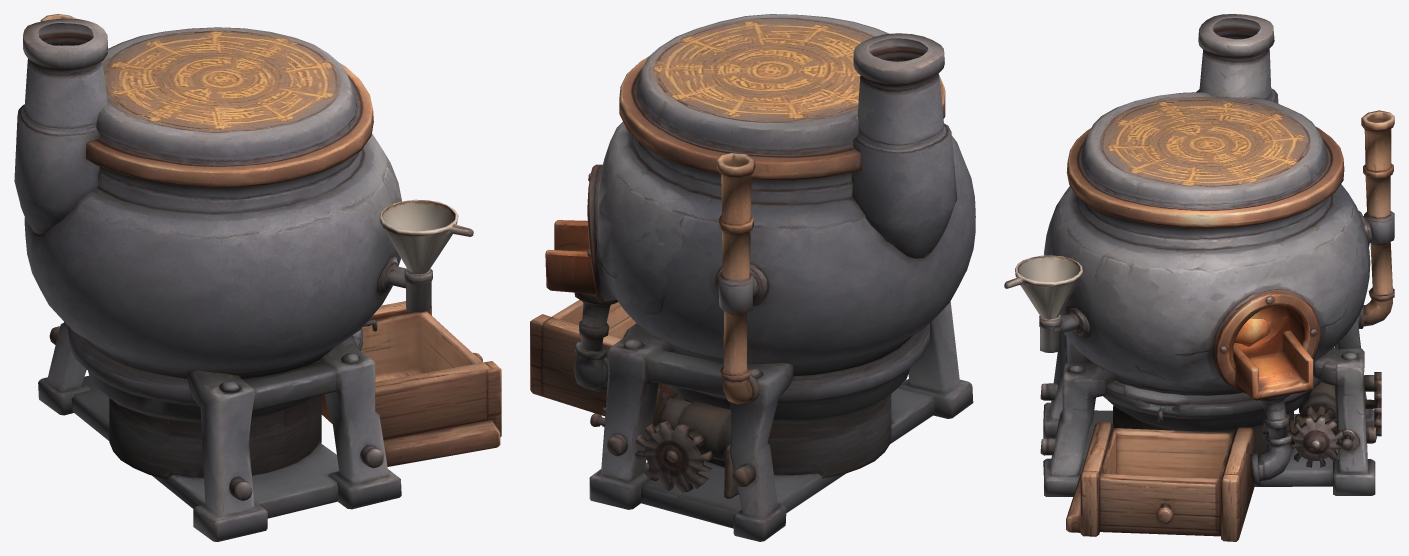
Rendered from 自动炼丹炉.fbx.
The picture shows the model from 3 angles, left to right: view 1: azimuth 30°, elevation 25°; view 2: azimuth 150°, elevation 25°; view 3: azimuth 270°, elevation 25°; orthographic projection. The views are drawn at different scales.
Parts seen in each view (by area): view 1: tripo_node_8180a8c9; view 2: tripo_node_8180a8c9; view 3: tripo_node_8180a8c9.
Boxes of the visible parts, box(x1,y1,x2,y2) form: tripo_node_8180a8c9: box(14, 14, 501, 541); tripo_node_8180a8c9: box(530, 14, 975, 541); tripo_node_8180a8c9: box(1004, 14, 1394, 541).
Bounding box in the file's own units: 0.998 × 0.998 × 0.9395.
